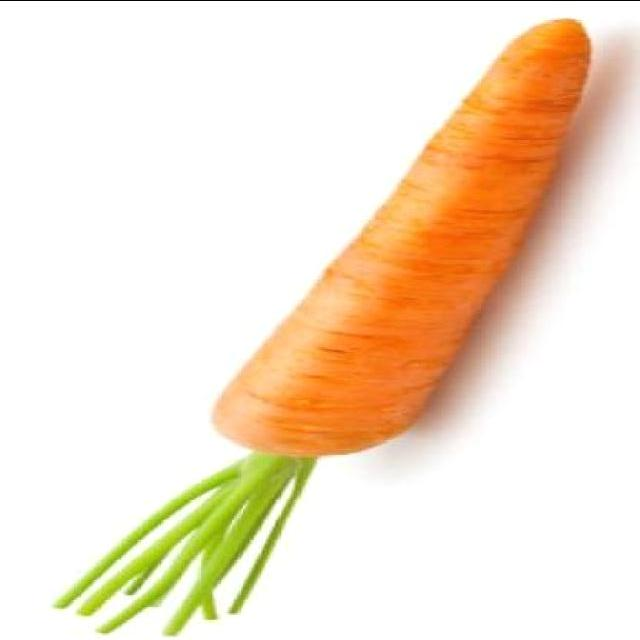carrot: (200, 16, 609, 467)
